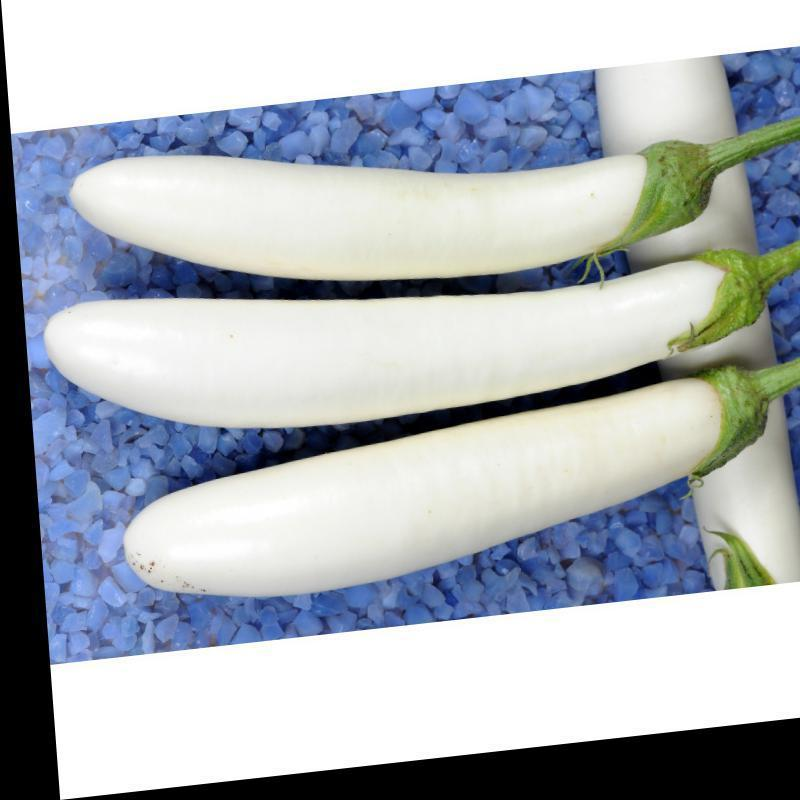eggplant: (21, 133, 799, 640)
